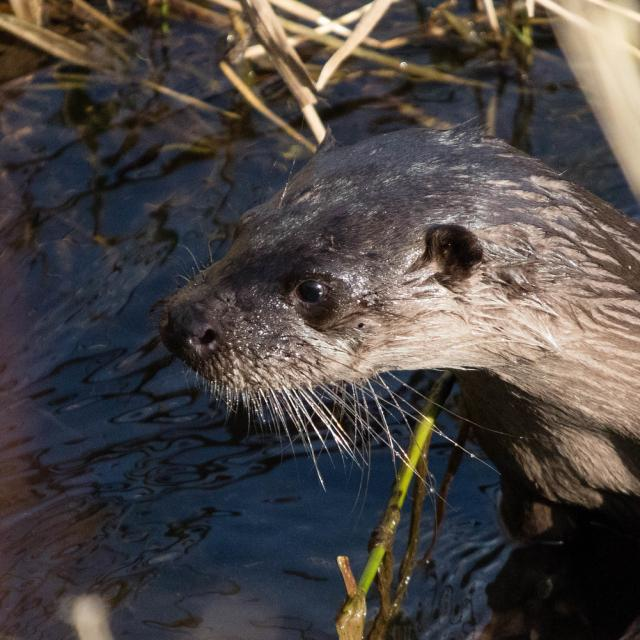otter: (166, 126, 640, 491)
